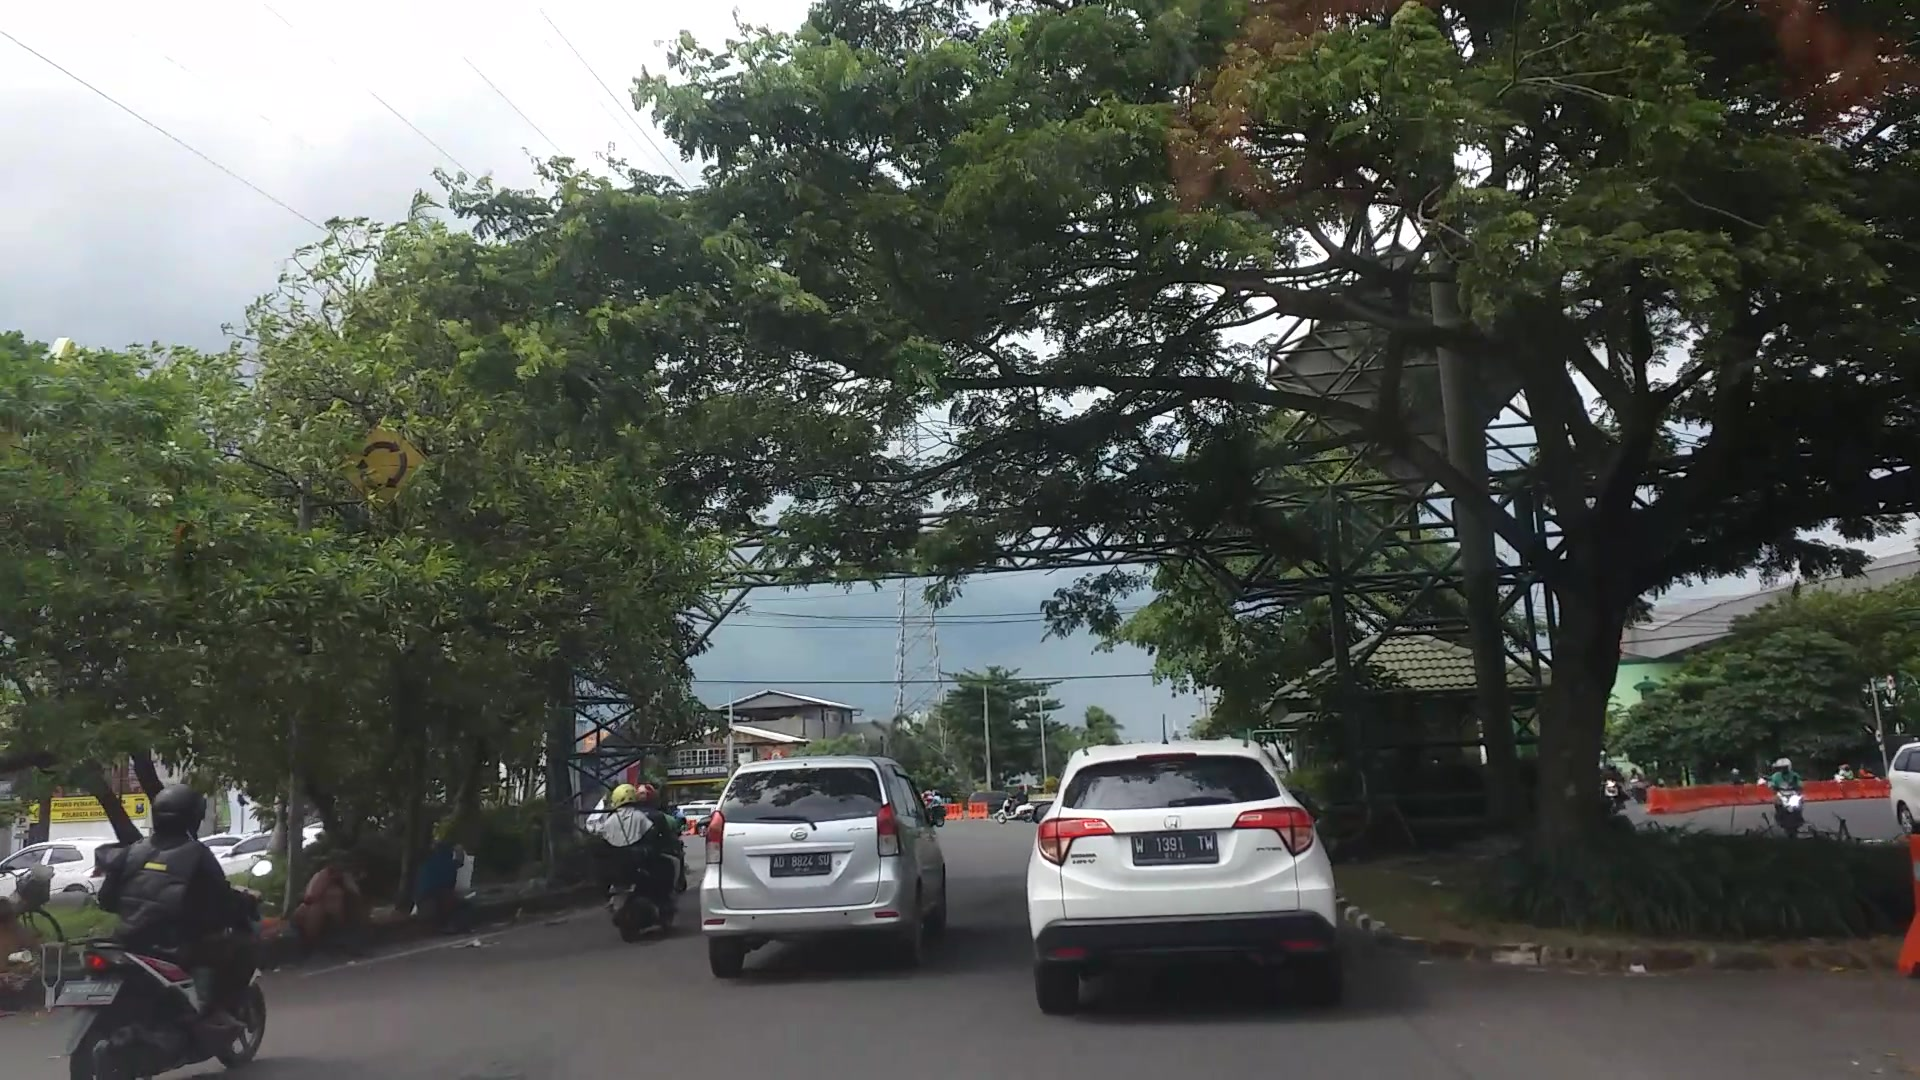plate_positive: (1131, 831, 1218, 865), (770, 853, 832, 876)
